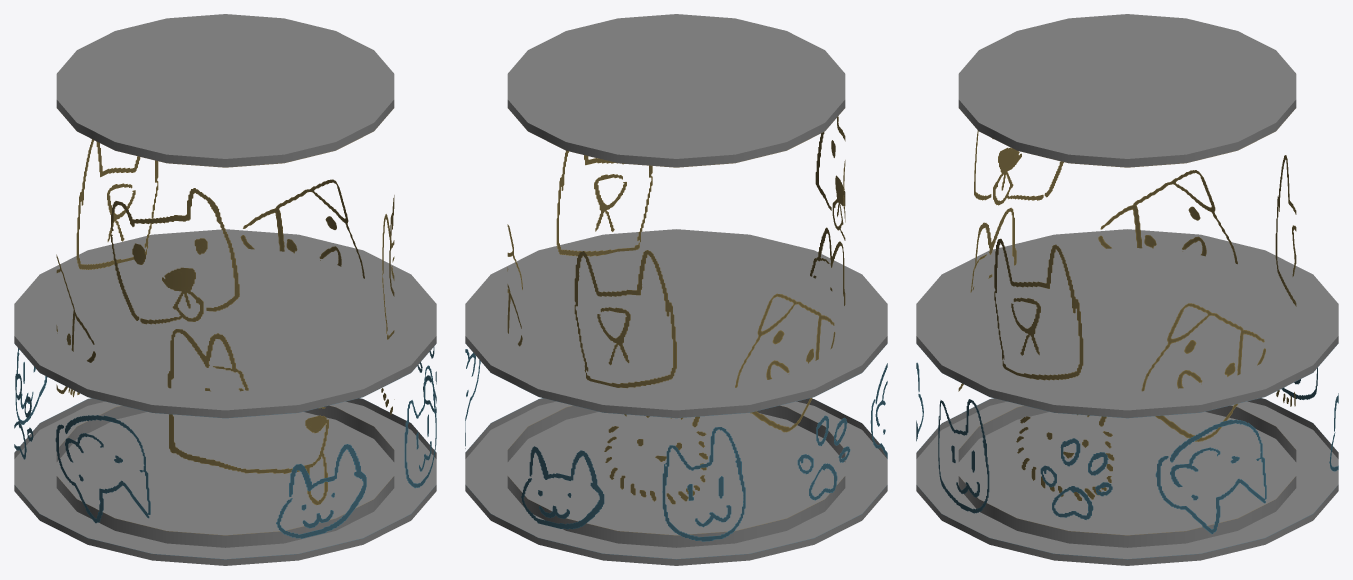
Rendered from Collectable_Sets.fbx.
3 renders of one model, left to right at view 1: azimuth 30°, elevation 25°; view 2: azimuth 150°, elevation 25°; view 3: azimuth 270°, elevation 25°, orthographic.
Visible parts, largest first — view 1: Can_Cat, Can_Dog; view 2: Can_Cat, Can_Dog; view 3: Can_Cat, Can_Dog.
Boxes of the visible parts, x1,y1,x2,y2 form: Can_Cat: (14, 229, 436, 565); Can_Dog: (56, 14, 394, 547); Can_Cat: (465, 229, 887, 565); Can_Dog: (507, 14, 845, 547); Can_Cat: (916, 229, 1338, 565); Can_Dog: (958, 14, 1296, 547).
Bounding box in the file's own units: 39.37 × 39.37 × 38.77.
